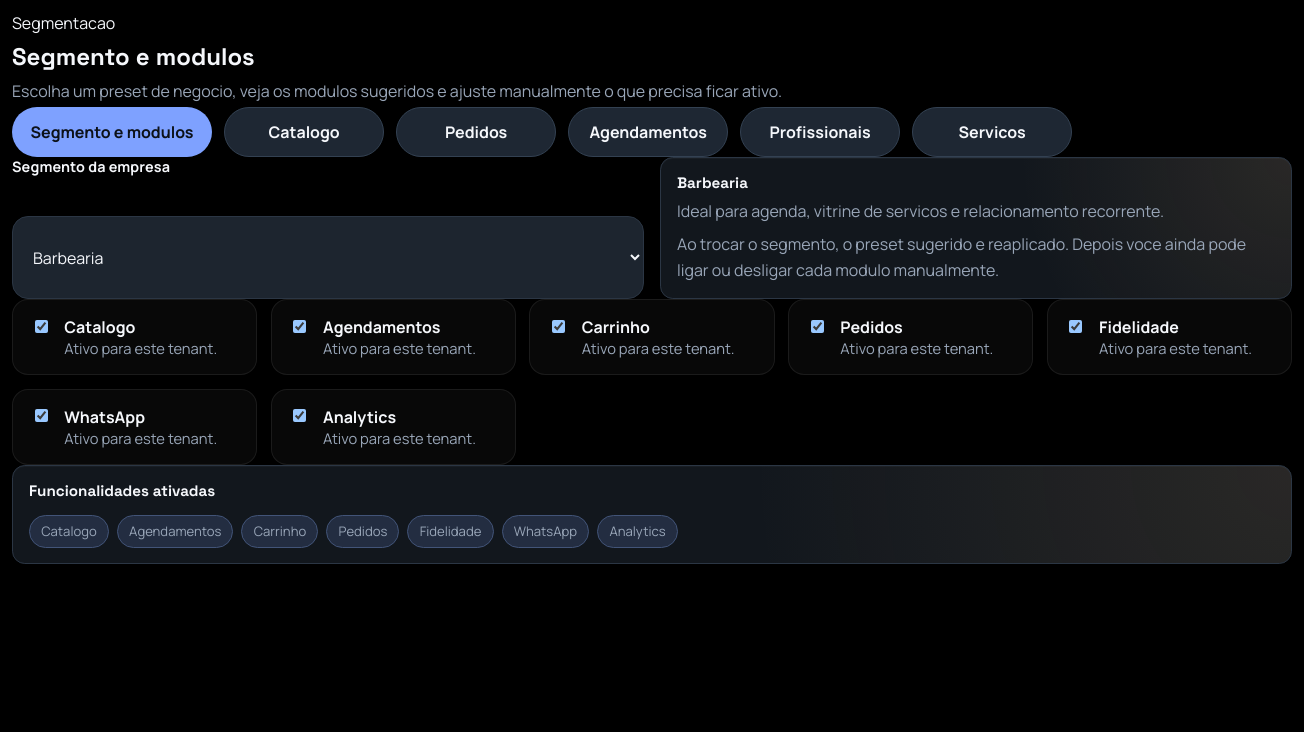
Test: TenantModuleManagementSection › renders improved empty-state copy for orders and appointment requests
The width and height of the screenshot is (1304, 732).
Click the button "Pedidos" at (476, 132), box [396,107,556,157]
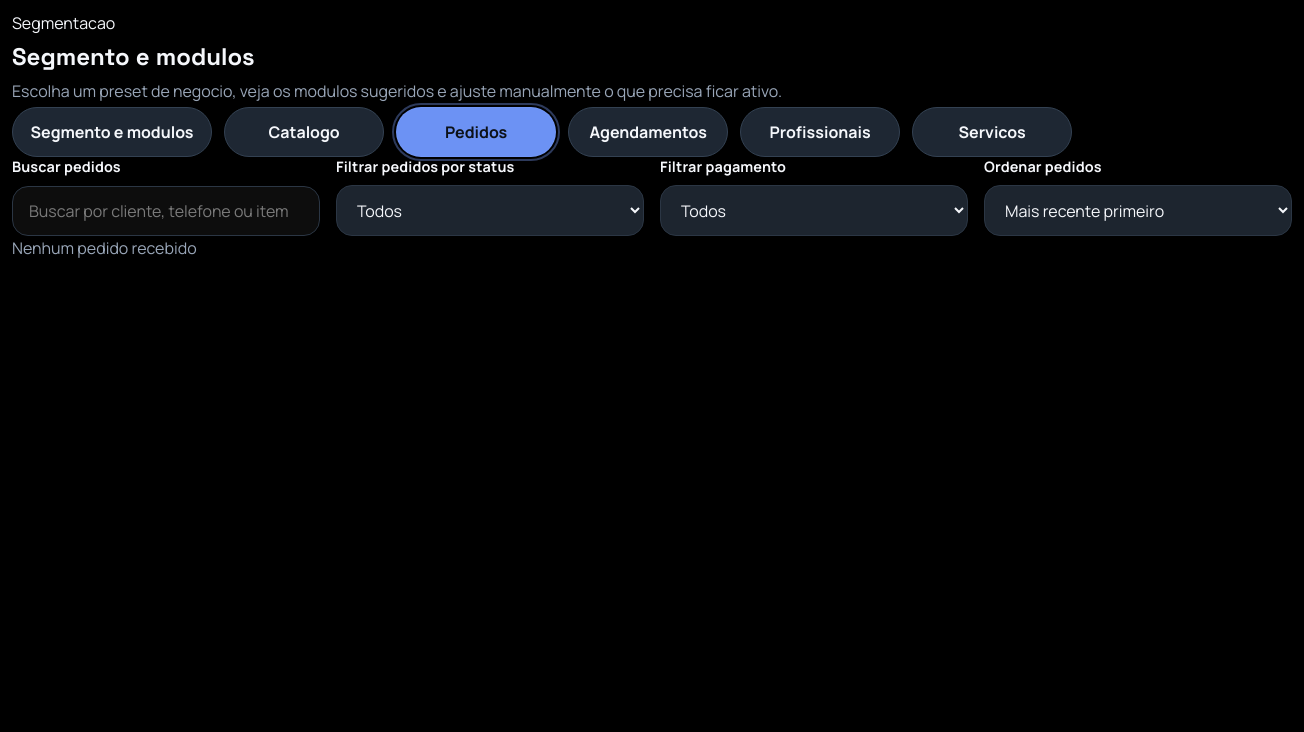
Expected: the text "Nenhum pedido recebido" is shown, [12,237,197,259]
Click the button "Agendamentos" at (648, 132), box [568,107,728,157]
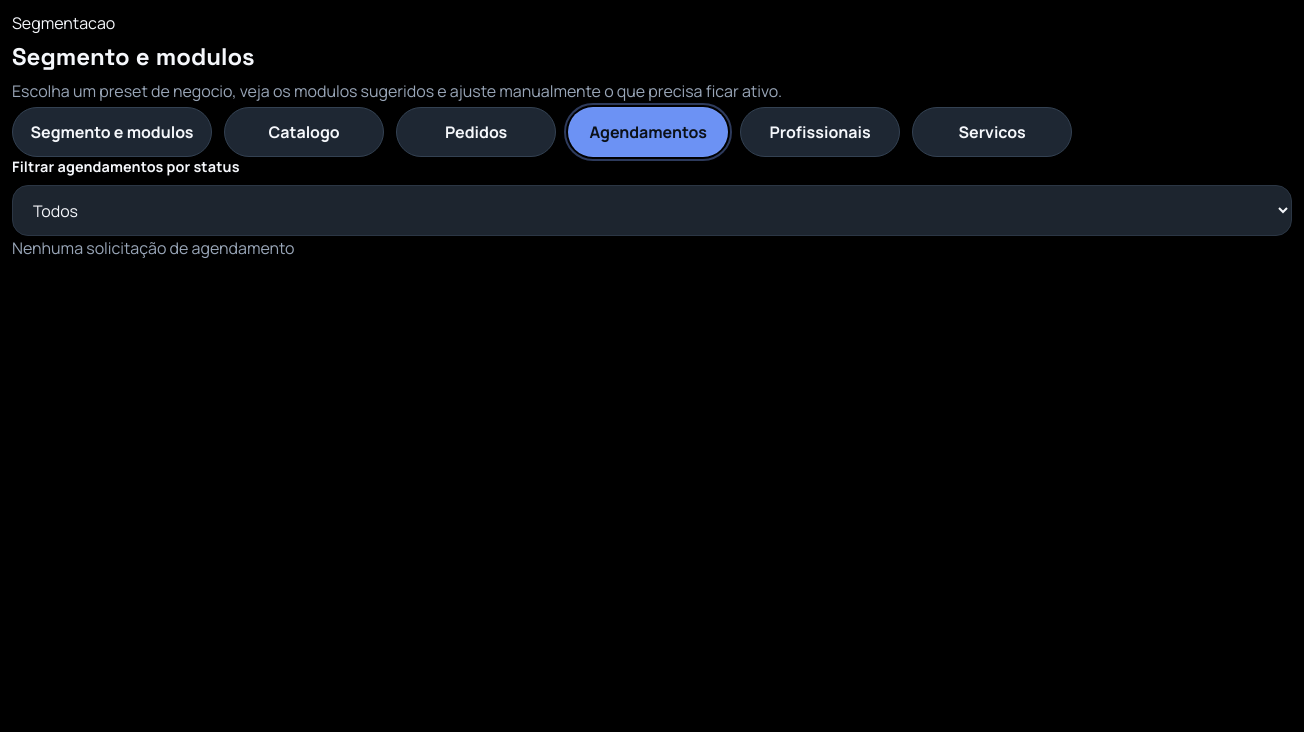
Expected: the text "Nenhuma solicitação de agendamento" is shown, [12,237,295,259]
